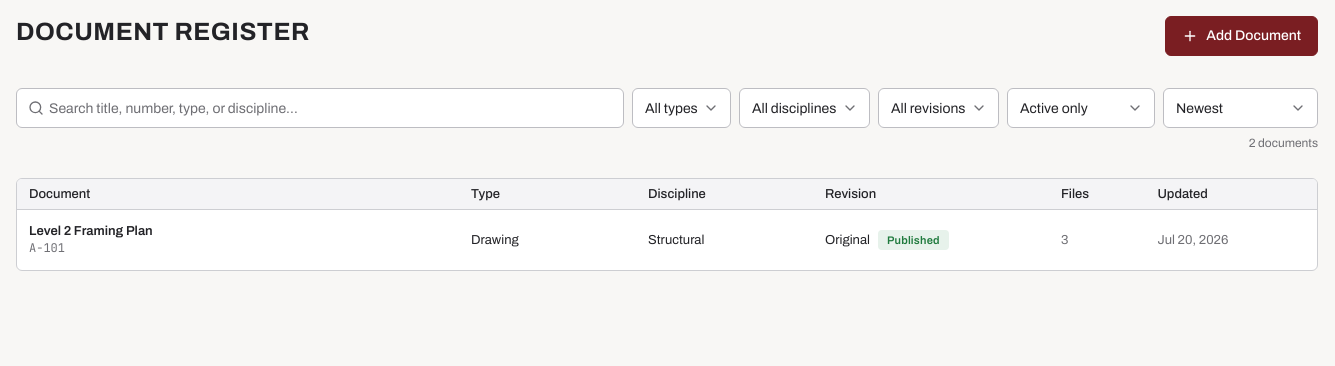
Test case: Document Register — search, filters, sort, and history › preserves the archived visibility choices and their default
This screenshot has width=1335, height=366.
Expected: the table with class "records-register-table" is shown, [17,179,1317,270]
Expected: the text "Retired Detail" is not shown
Select "Include archived" in the 4th dropdown named "Archived visibility". click: x=1081, y=108
box: [1007,88,1155,128]
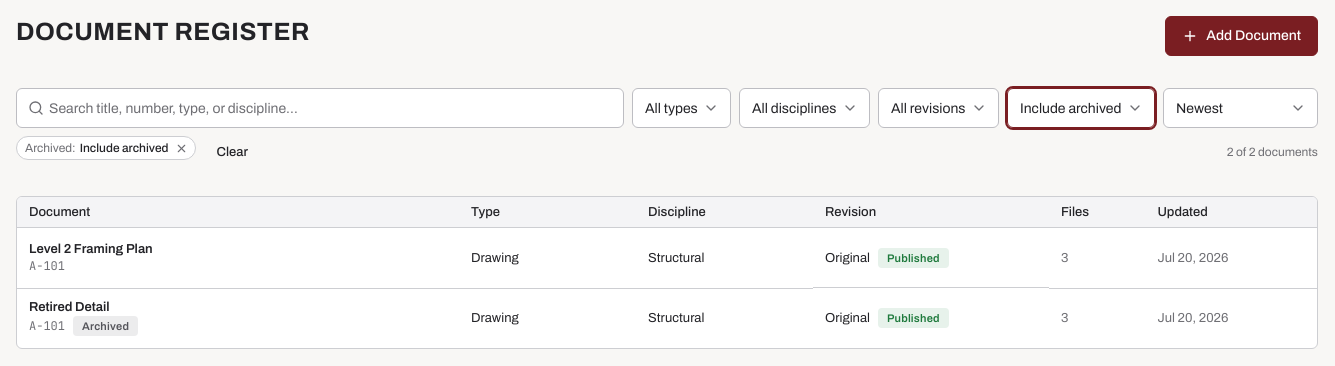
Expected: the link "Retired Detail" is shown, [29,300,110,314]
Select "Archived only" in the 4th dropdown named "Archived visibility". click: x=1081, y=108
box: [1007,88,1155,128]
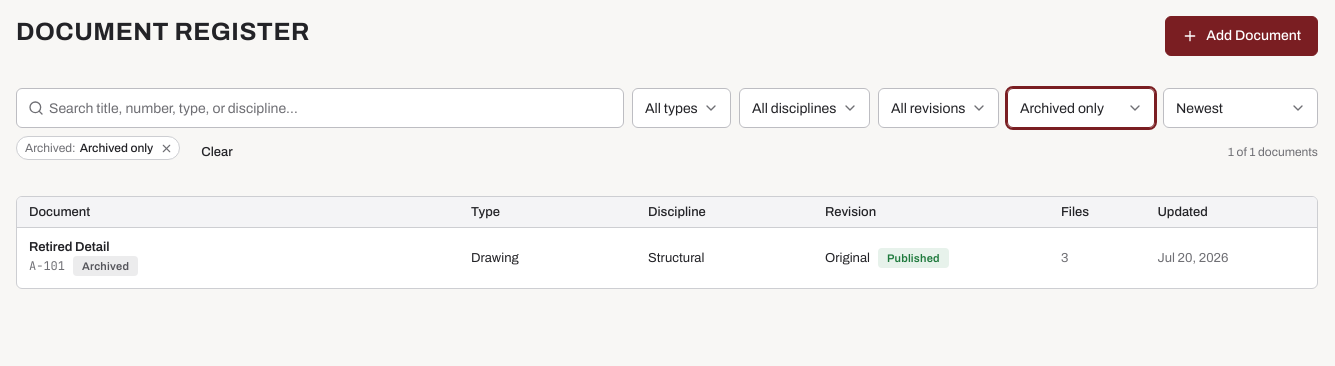
Expected: the link "Level 2 Framing Plan" is gone
